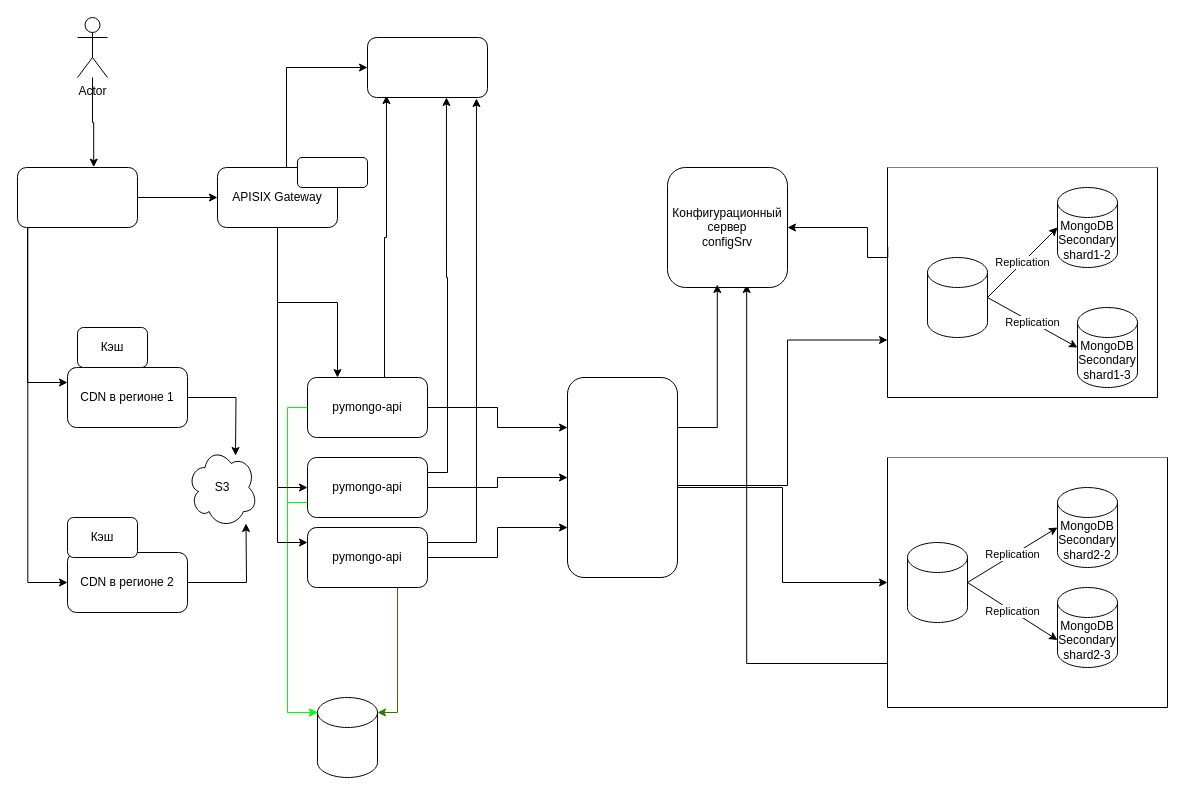
Some shapes in this 1185 by 795 pixel diagram are drawn without their labels. The shapes that lost their labels are listed below. From the top down, each one's centre as x and y in pixels, then its label:
At (427,67): "Consul".
At (332,172): "consul kv".
At (77,197): "React".
At (957,297): "MongoDB Primary shard1-1".
At (622,477): "Роутер router".
At (937,582): "MongoDB Primary shard2-1".
At (347,737): "Redis".
